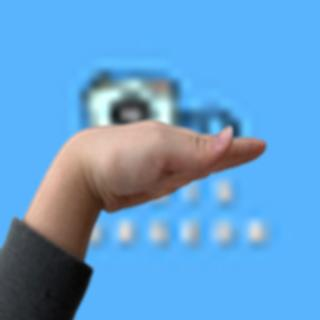Wait: (35, 113, 266, 217)
